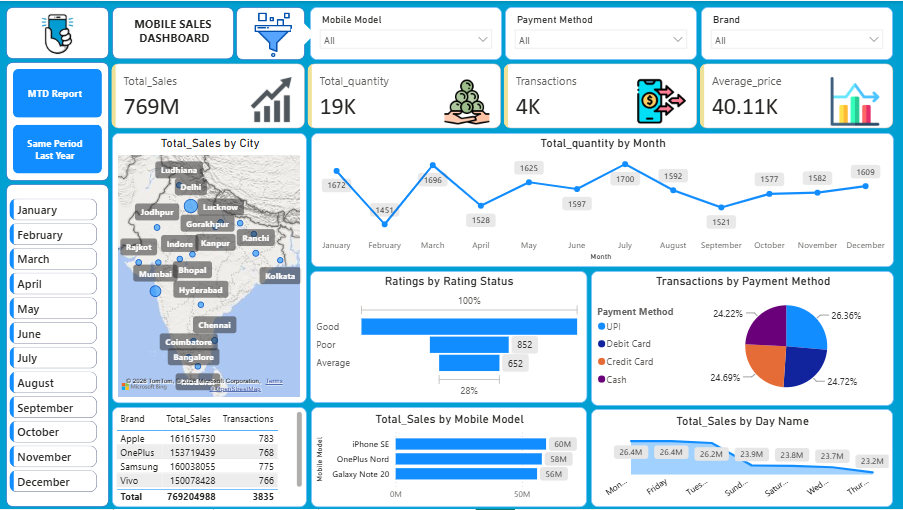

The dashboard page shown, as its layout file describes it:
{"tool":"powerbi","page":{"name":"Dashboard","canvas":[1280,720],"ordinal":0},"visuals":[{"type":"shape","box":[9.9,8.5,146,73.7],"z":0},{"type":"image","box":[18.4,14.2,129,65.2],"z":1000},{"type":"shape","box":[9.9,86.5,146,168.7],"z":2000},{"type":"shape","box":[9.9,259.4,146,457.8],"z":3000},{"type":"advancedSlicerVisual","fields":{"Values":["Custom_Calendar.Date.Variation.Date Hierarchy.Month"]},"box":[9.9,275,134.6,432.3],"z":4000},{"type":"cardVisual","fields":{"Data":["Mobile_Sales_Data.Total_Sales","Mobile_Sales_Data.Total_quantity","Mobile_Sales_Data.Transactions","Mobile_Sales_Data.Average_price"]},"box":[147.4,76.5,1132.4,116.2],"z":5000},{"type":"image","box":[340.2,107.7,90.7,63.8],"z":6000},{"type":"image","box":[622.2,109.1,82.2,68],"z":7000},{"type":"image","box":[898.6,107.7,80.8,69.4],"z":8000},{"type":"image","box":[1170.7,107.7,85,69.4],"z":9000},{"type":"slicer","fields":{"Values":["Mobile_Sales_Data.Mobile Model"]},"box":[440.8,8.5,272.1,75.1],"z":10000},{"type":"slicer","fields":{"Values":["Mobile_Sales_Data.Payment Method"]},"box":[717.2,8.5,272.1,75.1],"z":11000},{"type":"slicer","fields":{"Values":["Mobile_Sales_Data.Brand"]},"box":[995,8.5,272.1,75.1],"z":12000},{"type":"shape","box":[335.9,8.5,97.8,75.1],"z":13000},{"type":"image","box":[340.2,15.6,97.8,65.2],"z":14000},{"type":"shape","box":[413.9,31.2,34,31.2],"z":15000},{"type":"shape","box":[160.2,8.5,172.9,74],"z":16000},{"type":"textbox","box":[178.6,15.6,140.3,60.9],"z":17000},{"type":"map","fields":{"Category":["Mobile_Sales_Data.City"],"Size":["Mobile_Sales_Data.Total_Sales"]},"box":[160.2,187.1,276.4,382.7],"z":18000},{"type":"lineChart","fields":{"Category":["Custom_Calendar.Date.Variation.Date Hierarchy.Month"],"Y":["Mobile_Sales_Data.Total_quantity"]},"box":[442.2,187.1,826.3,189.9],"z":19000},{"type":"funnel","title":"Ratings by Rating Status","fields":{"Y":["CountNonNull(Mobile_Sales_Data.Customer Ratings)"],"Category":["Mobile_Sales_Data.Rating status"]},"box":[440.8,382.7,392.6,187.1],"z":20000},{"type":"pieChart","fields":{"Y":["Mobile_Sales_Data.Transactions"],"Category":["Mobile_Sales_Data.Payment Method"]},"box":[839.1,382.7,429.4,191.3],"z":21000},{"type":"clusteredBarChart","fields":{"Y":["Mobile_Sales_Data.Total_Sales"],"Category":["Mobile_Sales_Data.Mobile Model"]},"box":[442.2,575.4,391.2,142],"z":22000},{"type":"areaChart","fields":{"Y":["Mobile_Sales_Data.Total_Sales"],"Category":["Custom_Calendar.Day Name"]},"box":[839.1,578.3,428,138.9],"z":23000},{"type":"tableEx","fields":{"Values":["Mobile_Sales_Data.Brand","Mobile_Sales_Data.Total_Sales","Mobile_Sales_Data.Transactions"]},"box":[160.2,575.4,276.4,141.7],"z":24000},{"type":"pageNavigator","box":[19.8,96.4,126.1,148.8],"z":25000}]}

Visuals, with their boxes in screenshot pixels (x1, y1, x2, y2), scaled from the page's 1280x720 canvas onto the 903x510 screenshot:
shape: (x1=7, y1=6, x2=110, y2=58)
image: (x1=13, y1=10, x2=104, y2=56)
shape: (x1=7, y1=61, x2=110, y2=181)
shape: (x1=7, y1=184, x2=110, y2=508)
advancedSlicerVisual - Custom_Calendar.Date.Variation.Date Hierarchy.Month: (x1=7, y1=195, x2=102, y2=501)
cardVisual - Mobile_Sales_Data.Total_Sales x Mobile_Sales_Data.Total_quantity: (x1=104, y1=54, x2=902, y2=136)
image: (x1=240, y1=76, x2=304, y2=121)
image: (x1=439, y1=77, x2=497, y2=125)
image: (x1=634, y1=76, x2=691, y2=125)
image: (x1=826, y1=76, x2=886, y2=125)
slicer - Mobile_Sales_Data.Mobile Model: (x1=311, y1=6, x2=503, y2=59)
slicer - Mobile_Sales_Data.Payment Method: (x1=506, y1=6, x2=698, y2=59)
slicer - Mobile_Sales_Data.Brand: (x1=702, y1=6, x2=894, y2=59)
shape: (x1=237, y1=6, x2=306, y2=59)
image: (x1=240, y1=11, x2=309, y2=57)
shape: (x1=292, y1=22, x2=316, y2=44)
shape: (x1=113, y1=6, x2=235, y2=58)
textbox: (x1=126, y1=11, x2=225, y2=54)
map - Mobile_Sales_Data.City x Mobile_Sales_Data.Total_Sales: (x1=113, y1=133, x2=308, y2=404)
lineChart - Custom_Calendar.Date.Variation.Date Hierarchy.Month x Mobile_Sales_Data.Total_quantity: (x1=312, y1=133, x2=895, y2=267)
"Ratings by Rating Status" funnel: (x1=311, y1=271, x2=588, y2=404)
pieChart - Mobile_Sales_Data.Transactions x Mobile_Sales_Data.Payment Method: (x1=592, y1=271, x2=895, y2=407)
clusteredBarChart - Mobile_Sales_Data.Total_Sales x Mobile_Sales_Data.Mobile Model: (x1=312, y1=408, x2=588, y2=508)
areaChart - Mobile_Sales_Data.Total_Sales x Custom_Calendar.Day Name: (x1=592, y1=410, x2=894, y2=508)
tableEx - Mobile_Sales_Data.Brand x Mobile_Sales_Data.Total_Sales: (x1=113, y1=408, x2=308, y2=508)
pageNavigator: (x1=14, y1=68, x2=103, y2=174)
